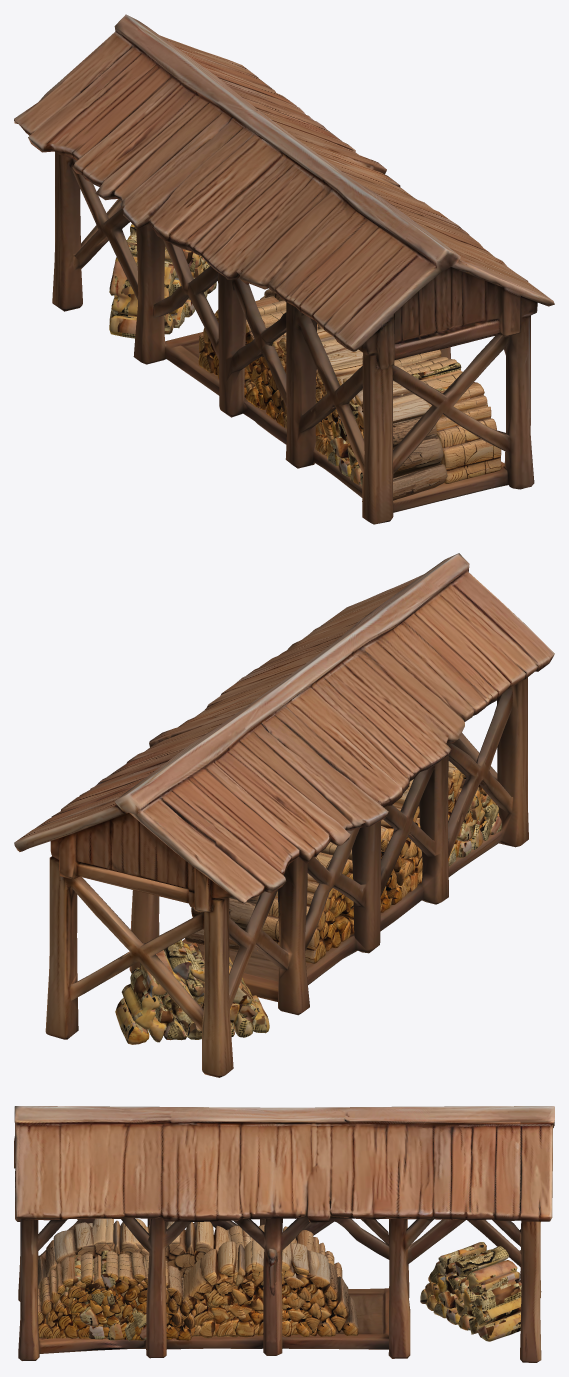
The model's file is Holz.fbx.
The picture shows the model from 3 angles, top to bottom: view 1: azimuth 30°, elevation 25°; view 2: azimuth 150°, elevation 25°; view 3: azimuth 270°, elevation 25°; orthographic projection. The views are drawn at different scales.
Parts seen in each view (by area): view 1: meshes[0], tripo_node_5b0c83d2.002, tripo_node_5b0c83d2.003, Holz Mittel.001, tripo_node_5281ed0c.001; view 2: meshes[0], tripo_node_5b0c83d2.002, tripo_node_5b0c83d2.003, tripo_node_5281ed0c.001, Holz Mittel.001; view 3: meshes[0], tripo_node_5b0c83d2.002, tripo_node_5b0c83d2.003, Holz Mittel.001, tripo_node_5281ed0c.001.
Boxes of the visible parts, left/top/right/bottom form: meshes[0]: left=14, top=14, right=554, bottom=524; tripo_node_5b0c83d2.002: left=109, top=224, right=461, bottom=500; tripo_node_5b0c83d2.003: left=245, top=289, right=501, bottom=483; Holz Mittel.001: left=284, top=357, right=461, bottom=479; tripo_node_5281ed0c.001: left=326, top=402, right=363, bottom=487; meshes[0]: left=14, top=553, right=554, bottom=1077; tripo_node_5b0c83d2.002: left=115, top=761, right=496, bottom=1044; tripo_node_5b0c83d2.003: left=185, top=791, right=457, bottom=950; tripo_node_5281ed0c.001: left=448, top=777, right=501, bottom=866; Holz Mittel.001: left=398, top=767, right=499, bottom=898; meshes[0]: left=14, top=1106, right=554, bottom=1362; tripo_node_5b0c83d2.002: left=38, top=1218, right=521, bottom=1341; tripo_node_5b0c83d2.003: left=38, top=1221, right=358, bottom=1338; Holz Mittel.001: left=46, top=1218, right=195, bottom=1340; tripo_node_5281ed0c.001: left=58, top=1279, right=146, bottom=1341.
Size of the model in its own units: 152 by 161 by 357.
